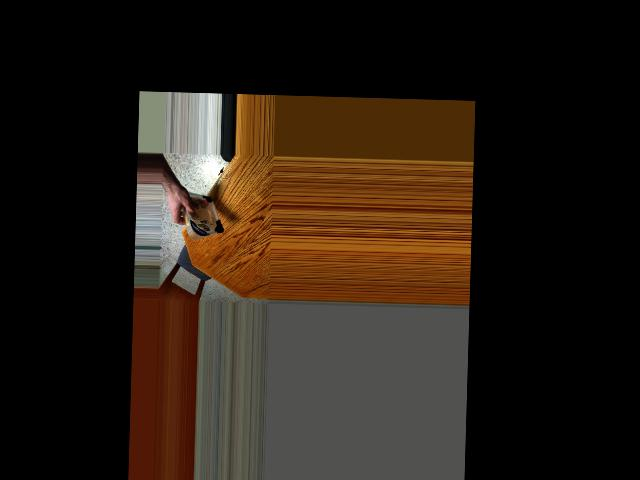cheese: (184, 187, 221, 237)
